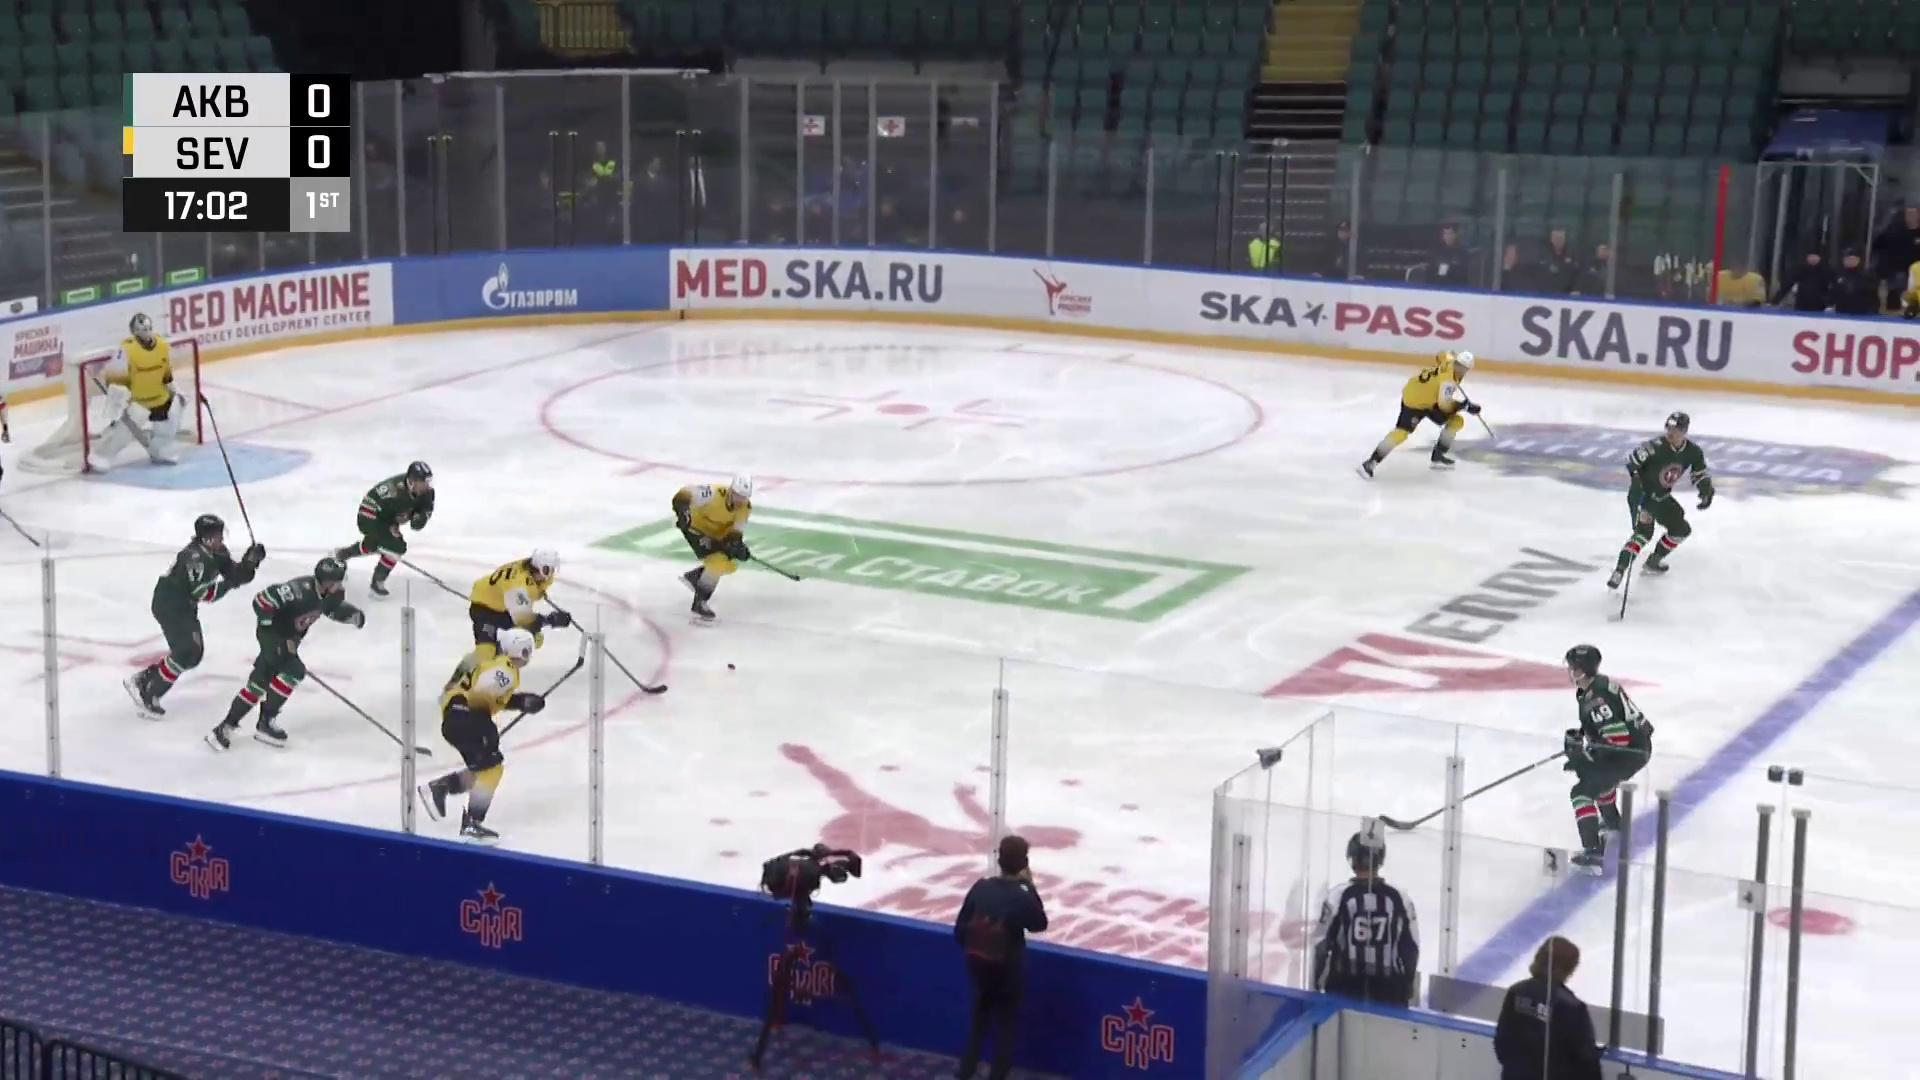ball: (727, 662, 737, 673)
